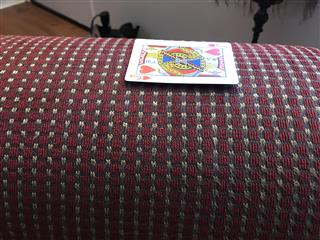JackOfHearts: (124, 38, 240, 84)
